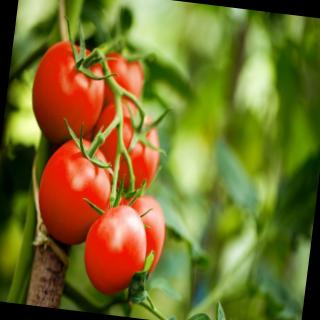Tomat: (33, 117, 122, 251), (87, 95, 168, 198), (80, 200, 154, 299), (114, 192, 172, 279), (96, 50, 149, 112)
